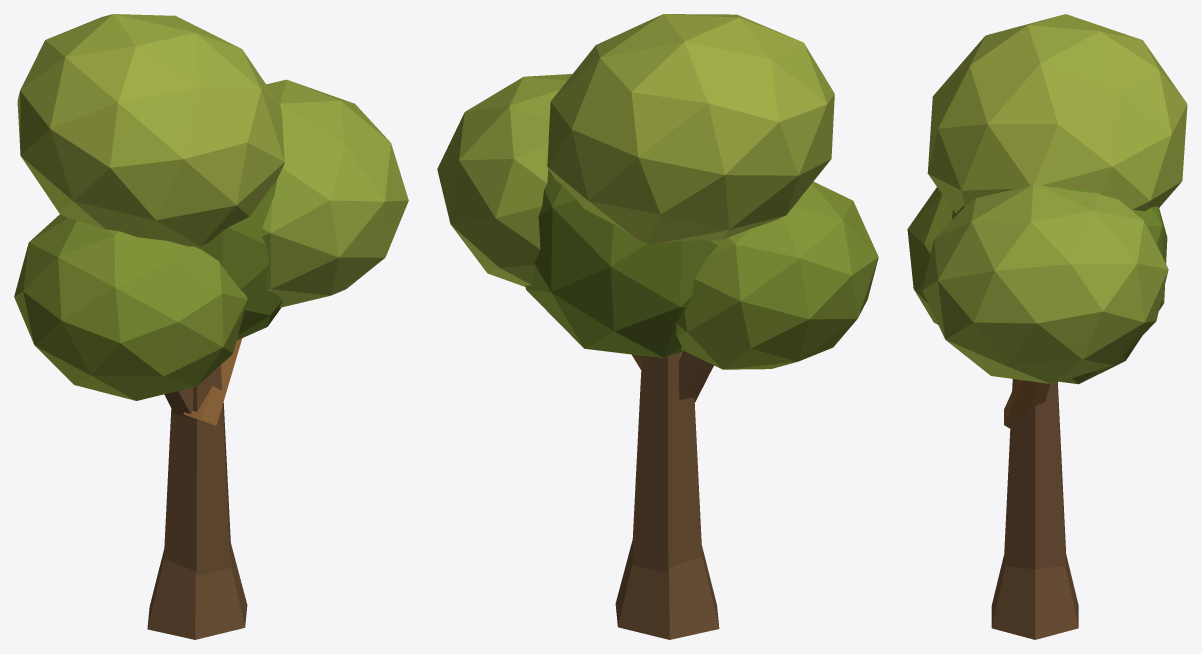
Rendered from tree-canopy-7.gltf.
3 renders of one model, left to right at view 1: azimuth 30°, elevation 25°; view 2: azimuth 150°, elevation 25°; view 3: azimuth 270°, elevation 25°, orthographic. The views are drawn at different scales.
Parts seen in each view (by area): view 1: tree-canopy-7; view 2: tree-canopy-7; view 3: tree-canopy-7.
Boxes of the visible parts, <box> form: tree-canopy-7: <box>14,14,408,639</box>; tree-canopy-7: <box>437,14,878,639</box>; tree-canopy-7: <box>907,14,1187,639</box>.
Bounding box in the file's own units: 1.12 × 1.69 × 0.7614.
